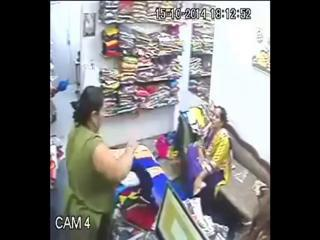Normal: (62, 86, 138, 240), (151, 182, 209, 240)
